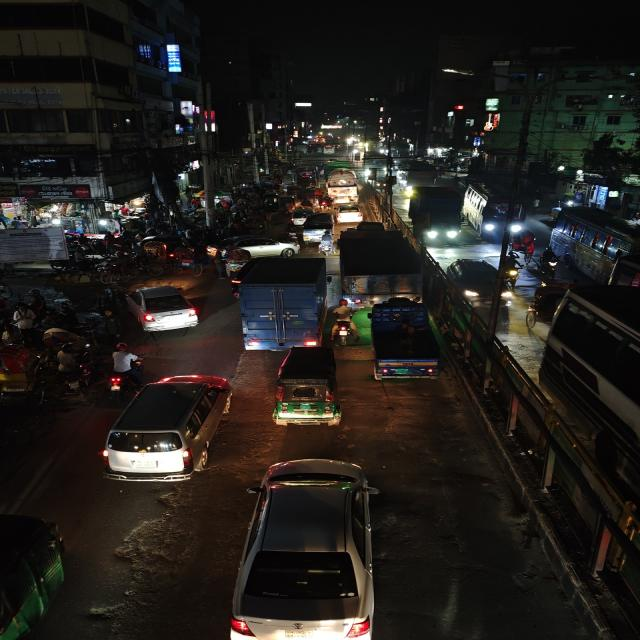bus: (549, 206, 640, 286), (465, 178, 528, 242)
car: (234, 455, 379, 640), (96, 371, 236, 484), (117, 283, 201, 336), (444, 256, 512, 307), (211, 232, 301, 258), (526, 282, 571, 324), (335, 204, 366, 222), (288, 208, 310, 226)
cng: (0, 511, 69, 638), (271, 344, 343, 428)
motorcycle: (100, 344, 146, 395), (52, 346, 96, 398), (328, 302, 359, 344), (502, 251, 524, 283), (539, 246, 560, 277)
pickup_van: (335, 226, 422, 309), (366, 297, 446, 383), (300, 213, 334, 240)
rickshaw: (0, 341, 47, 400)
truck: (231, 256, 329, 352), (409, 184, 465, 246), (324, 168, 361, 204)
